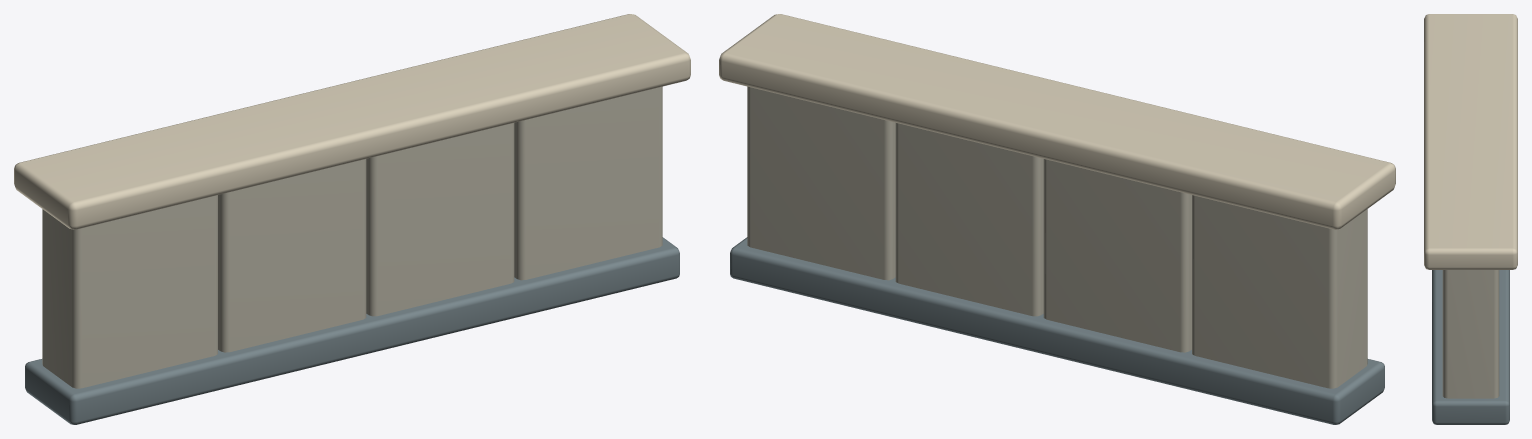
The model's file is SM_Wall_Half_Stone_4x1p5.fbx.
The picture shows the model from 3 angles, left to right: view 1: azimuth 30°, elevation 25°; view 2: azimuth 150°, elevation 25°; view 3: azimuth 270°, elevation 25°; orthographic projection. The views are drawn at different scales.
Parts seen in each view (by area): view 1: SM_Wall_Half_Stone_4x1p5; view 2: SM_Wall_Half_Stone_4x1p5; view 3: SM_Wall_Half_Stone_4x1p5.
Boxes of the visible parts, <box> form: SM_Wall_Half_Stone_4x1p5: <box>14,14,690,424</box>; SM_Wall_Half_Stone_4x1p5: <box>719,14,1395,424</box>; SM_Wall_Half_Stone_4x1p5: <box>1424,14,1517,424</box>.
Size of the model in its own units: 4.2 by 1.47 by 0.7.
